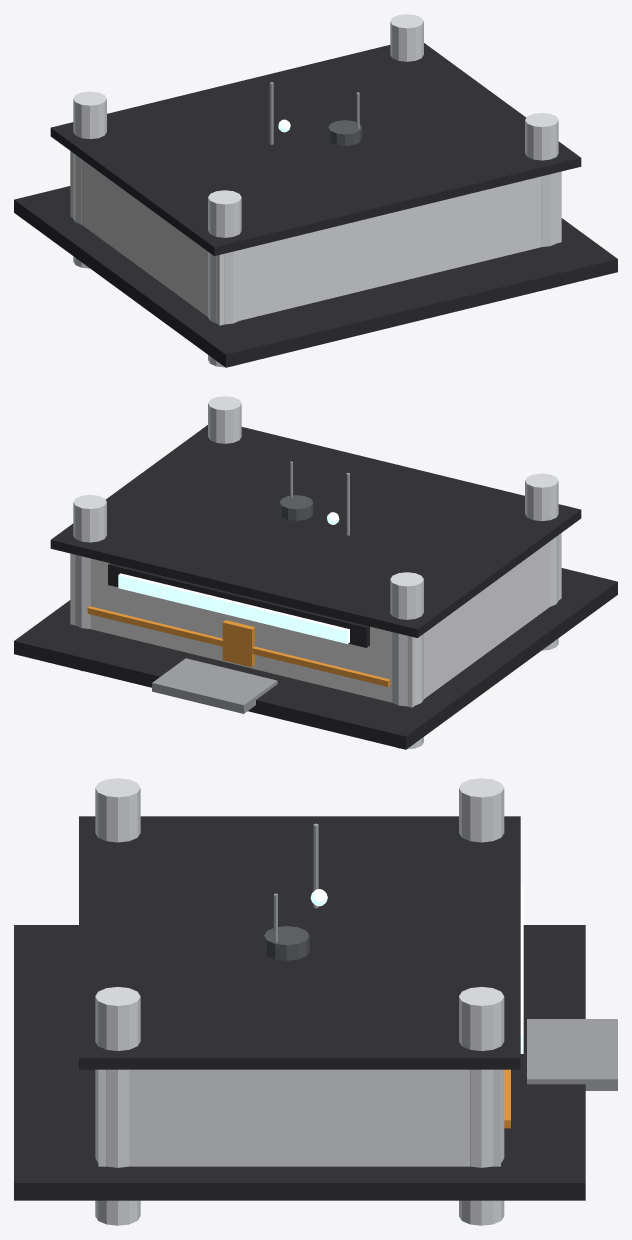
Rendered from SM_Hero_OPS.fbx.
The picture shows the model from 3 angles, top to bottom: view 1: azimuth 30°, elevation 25°; view 2: azimuth 150°, elevation 25°; view 3: azimuth 270°, elevation 25°; orthographic projection. The views are drawn at different scales.
Parts seen in each view (by area): view 1: SM_Hero_OPS; view 2: SM_Hero_OPS; view 3: SM_Hero_OPS.
Part boxes in pixels (x1=…): SM_Hero_OPS: x1=14, y1=14, x2=617, y2=367; SM_Hero_OPS: x1=14, y1=396, x2=617, y2=749; SM_Hero_OPS: x1=14, y1=778, x2=617, y2=1225.
Bounding box in the file's own units: 5.64 × 2.67 × 5.58.
